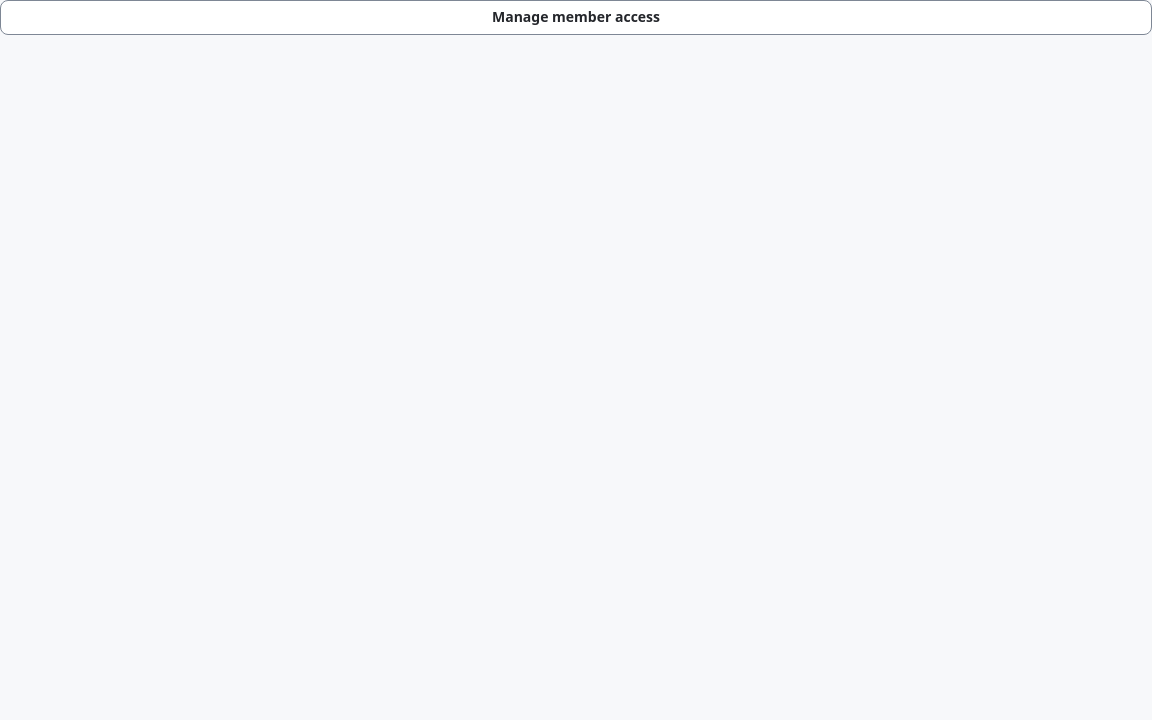
Test: organization member controls › retains one attempt across an unknown result and repeated clicks
Later steps or results of the test are not shown.
Click the button "Manage member access". click: click(576, 17)
box: [0,0,1151,35]
(page scrolled)
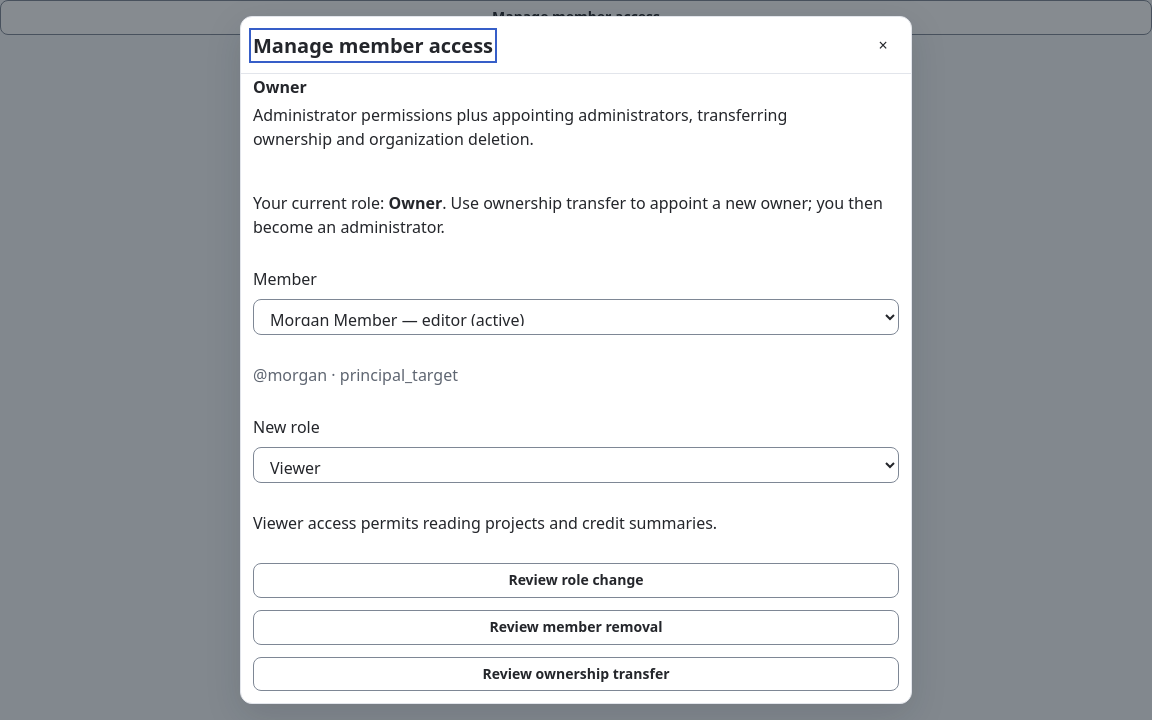
expect the dropdown labelled "Member" is shown: met, box [253,299,899,335]
Click the button "Review role change". click: click(576, 580)
box: [253,563,899,598]
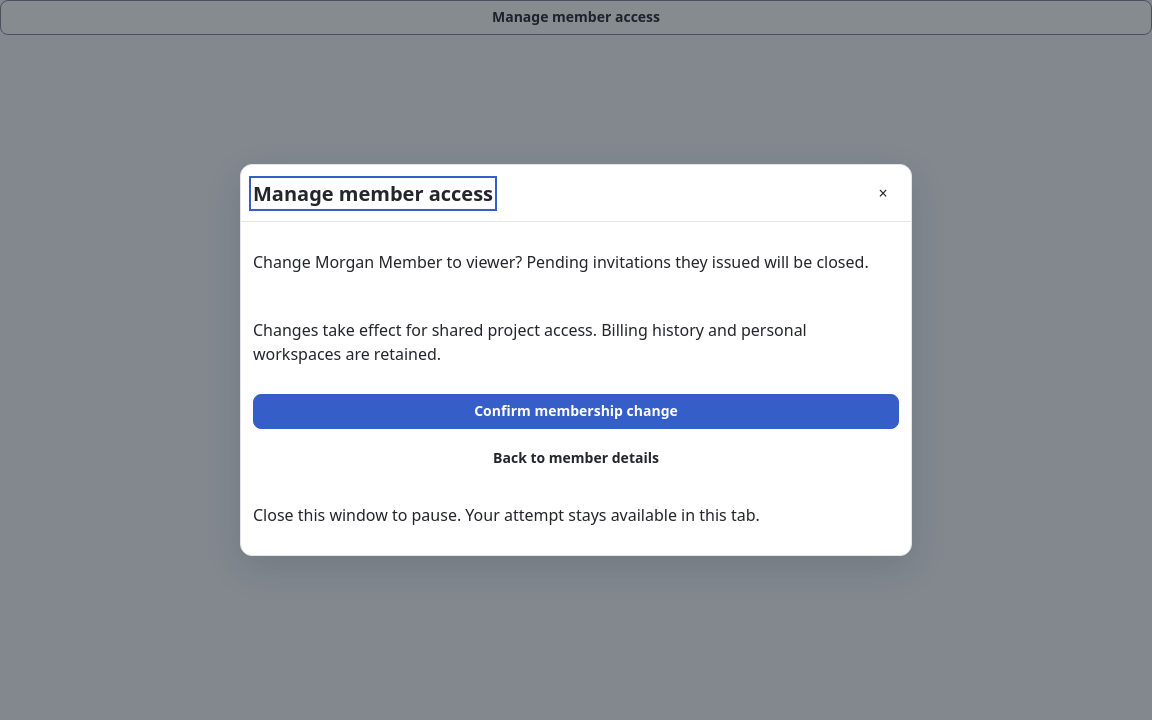
Click the button "Confirm membership change". click: click(576, 411)
box: [253,394,899,428]
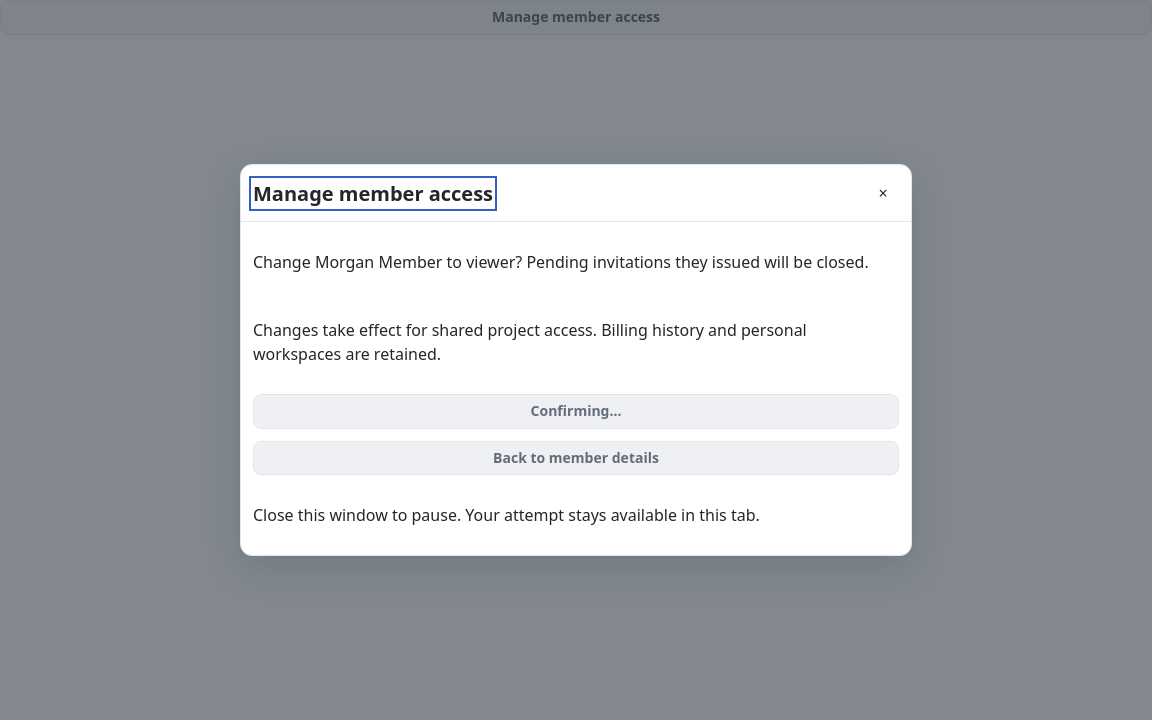
Click the button "Confirming…". click: click(576, 411)
box: [253,394,899,428]
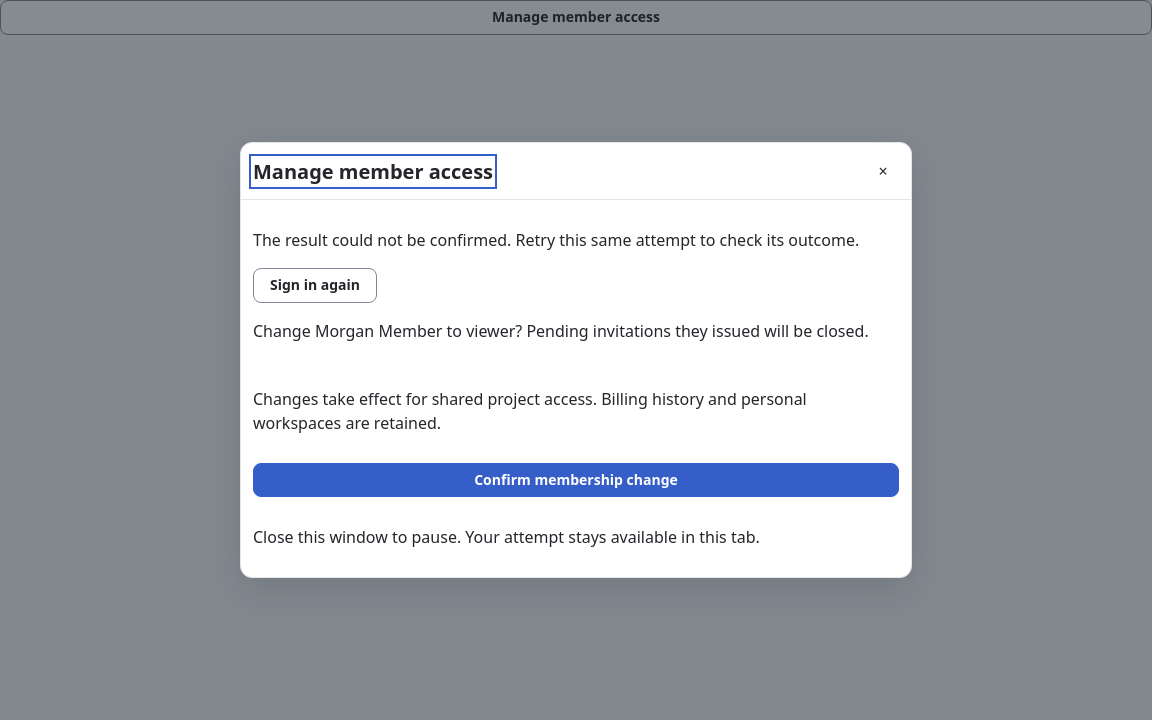
expect the message is shown: met, box [253,228,899,252]
